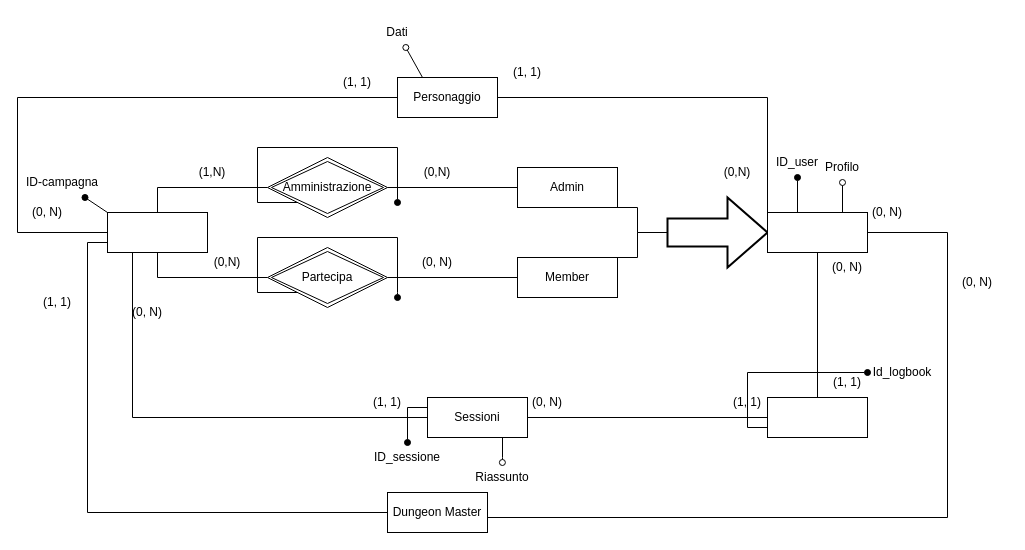
Image size: 1025x550. Some labels were removed from this diagram. The shapes that lost their labels are listed below. From the top down, each one's box as (x1, y1, x2, y2) in pixels, then its label:
(106, 212, 208, 252): Campagna
(766, 212, 868, 252): User
(766, 396, 868, 438): Logbook
